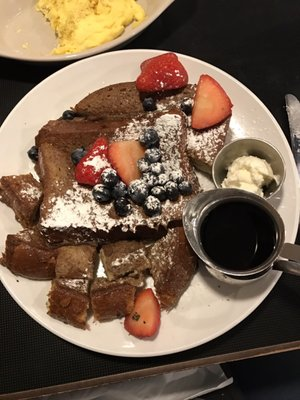pizza: (181, 188, 284, 286)
sandwich: (284, 93, 300, 186)
sushi: (183, 188, 286, 286), (210, 137, 286, 208)
